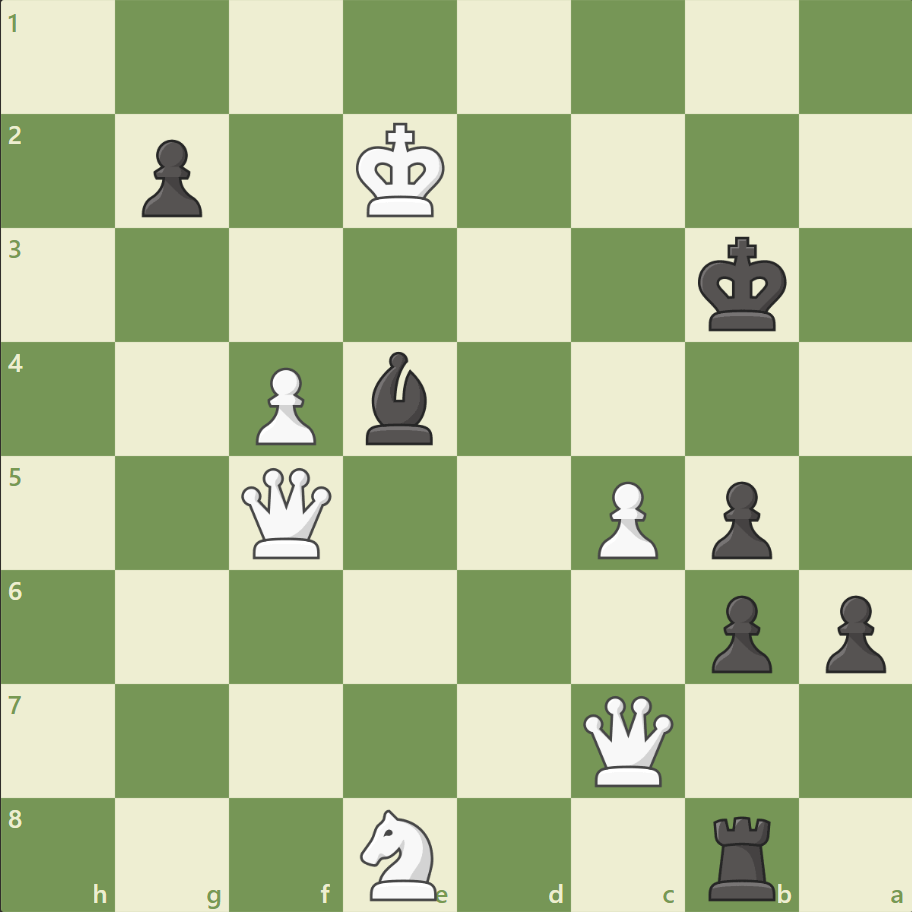K: (351, 117, 451, 225)
N: (351, 802, 449, 904)
P: (247, 359, 322, 450), (588, 473, 662, 564)
Q: (578, 690, 677, 789), (237, 463, 336, 562)
b: (358, 347, 442, 449)
k: (692, 231, 792, 339)
p: (701, 586, 776, 677), (701, 473, 776, 564), (133, 132, 208, 223), (815, 586, 889, 677)
r: (700, 806, 783, 904)
